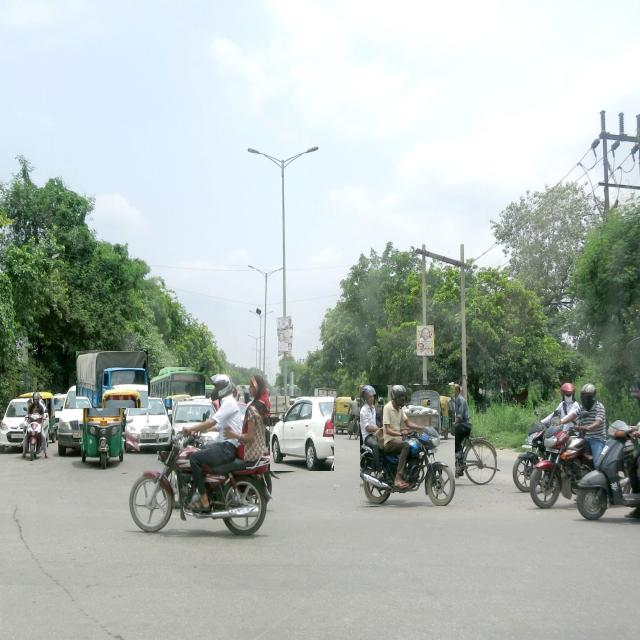autorickshaw: (81, 390, 124, 468)
bus: (150, 368, 205, 399)
car: (270, 397, 334, 471), (58, 385, 110, 456), (126, 397, 171, 451)
motorcycle: (130, 375, 271, 535), (360, 385, 455, 506), (530, 383, 606, 508), (21, 393, 49, 461)
truck: (76, 352, 148, 408)
